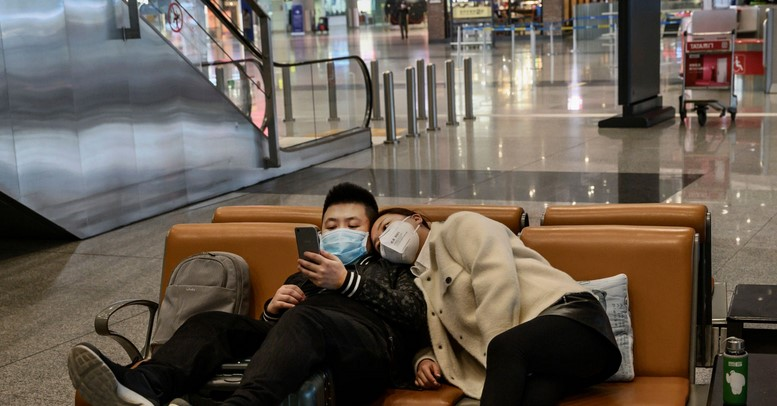face_with_mask: (316, 184, 378, 267), (370, 207, 424, 266)
